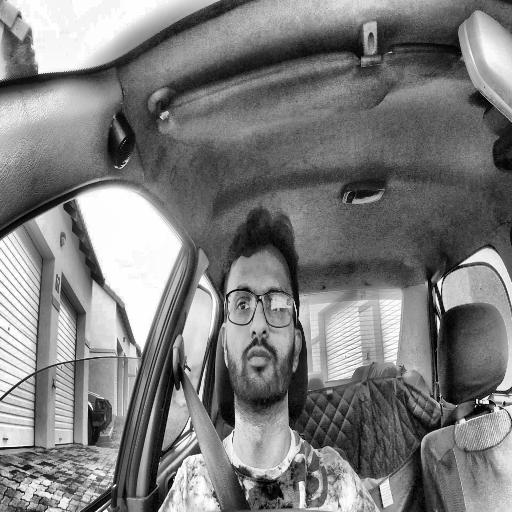awake: (220, 207, 302, 407)
